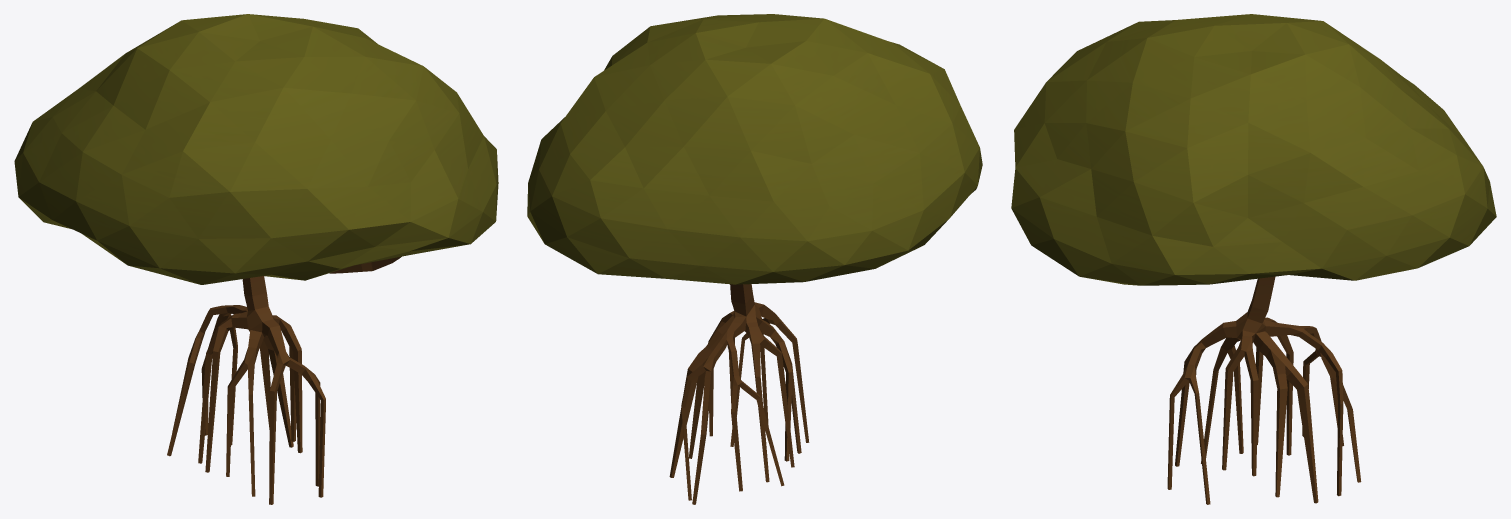
File: mangrove_tree.glb
3 views of the same model, side by side, from view 1: azimuth 30°, elevation 25°; view 2: azimuth 150°, elevation 25°; view 3: azimuth 270°, elevation 25° (orthographic). The views are drawn at different scales.
Parts seen in each view (by area): view 1: Icosphere.076, Cube.019; view 2: Icosphere.076, Cube.019; view 3: Icosphere.076, Cube.019.
Part boxes in pixels (bbox=[...]): Icosphere.076: bbox=[14, 14, 498, 284]; Cube.019: bbox=[167, 256, 401, 504]; Icosphere.076: bbox=[527, 14, 982, 284]; Cube.019: bbox=[669, 284, 809, 504]; Icosphere.076: bbox=[1011, 14, 1496, 285]; Cube.019: bbox=[1167, 276, 1361, 504].
Bounding box in the file's own units: 1.88 × 1.96 × 1.94.
1 material, 1 textured.
